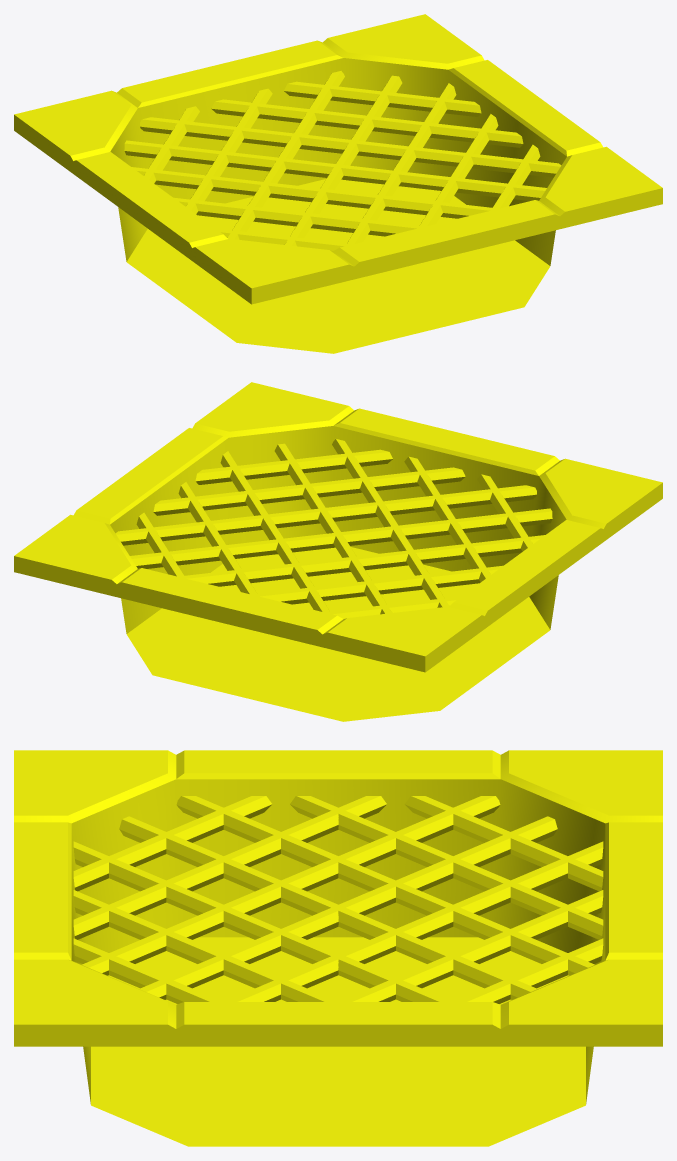
File: kaykit-floor-tile-big-grate.glb
3 renders of one model, top to bottom at view 1: azimuth 30°, elevation 25°; view 2: azimuth 150°, elevation 25°; view 3: azimuth 270°, elevation 25°, orthographic. The views are drawn at different scales.
Parts seen in each view (by area): view 1: floor_tile_big_grate; view 2: floor_tile_big_grate; view 3: floor_tile_big_grate.
Boxes of the visible parts, x1=… form: floor_tile_big_grate: x1=14, y1=14, x2=662, y2=353; floor_tile_big_grate: x1=14, y1=382, x2=662, y2=721; floor_tile_big_grate: x1=14, y1=750, x2=662, y2=1146.
Size of the model in its own units: 4 by 1.05 by 4.
